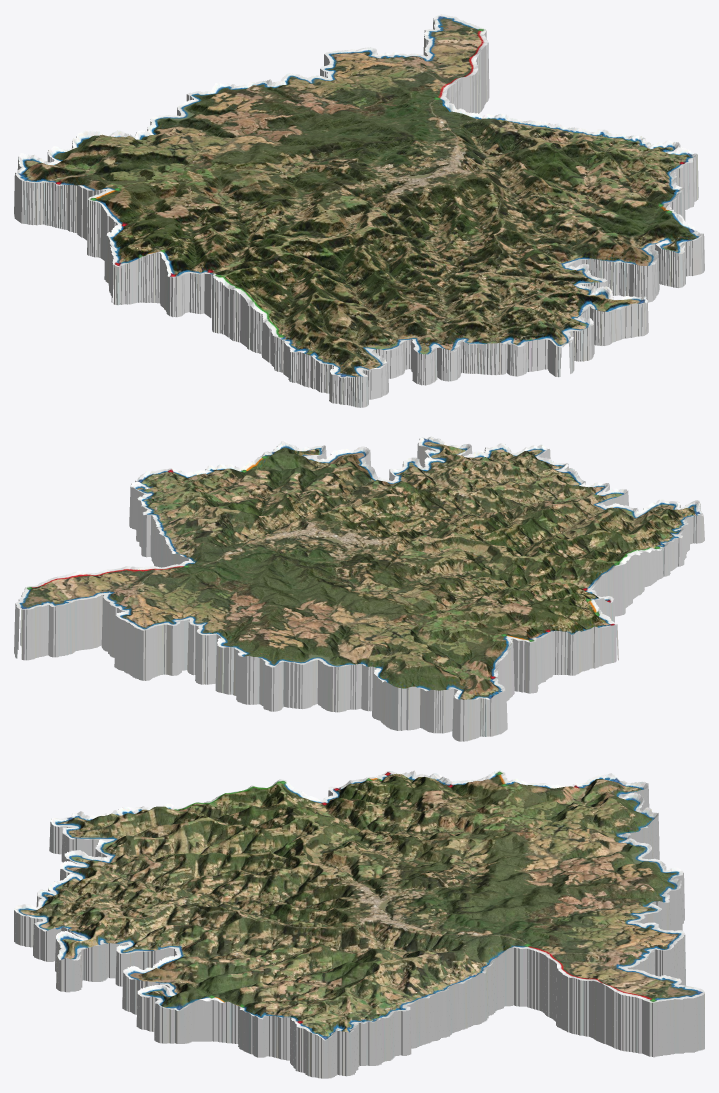
The picture shows the model from 3 angles, top to bottom: view 1: azimuth 30°, elevation 25°; view 2: azimuth 150°, elevation 25°; view 3: azimuth 270°, elevation 25°; orthographic projection. The views are drawn at different scales.
Bounding box in the file's own units: 1 × 0.1051 × 1.09.
Materials: 1 (1 with a texture image).
